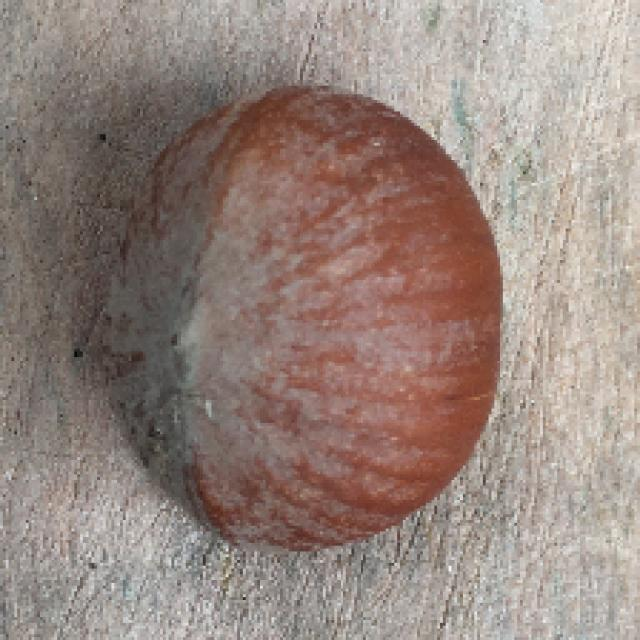qualityHazelnut: (103, 71, 505, 545)
